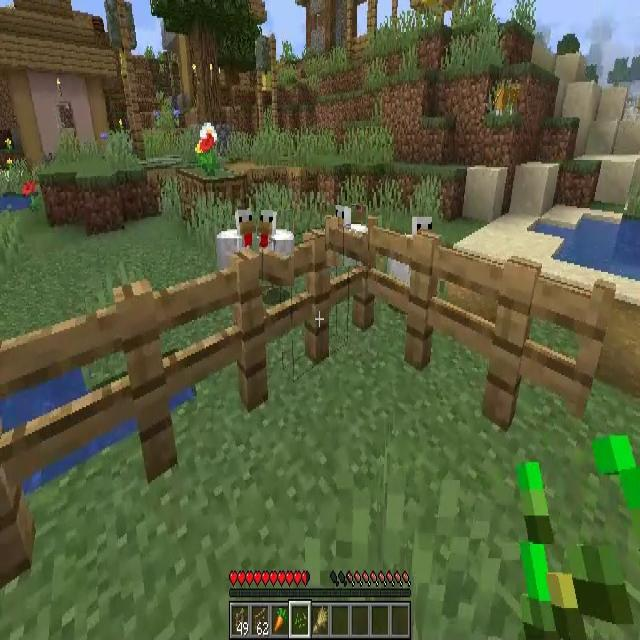duck: (259, 210, 294, 286), (218, 209, 255, 280), (325, 205, 368, 266), (406, 216, 440, 288)
